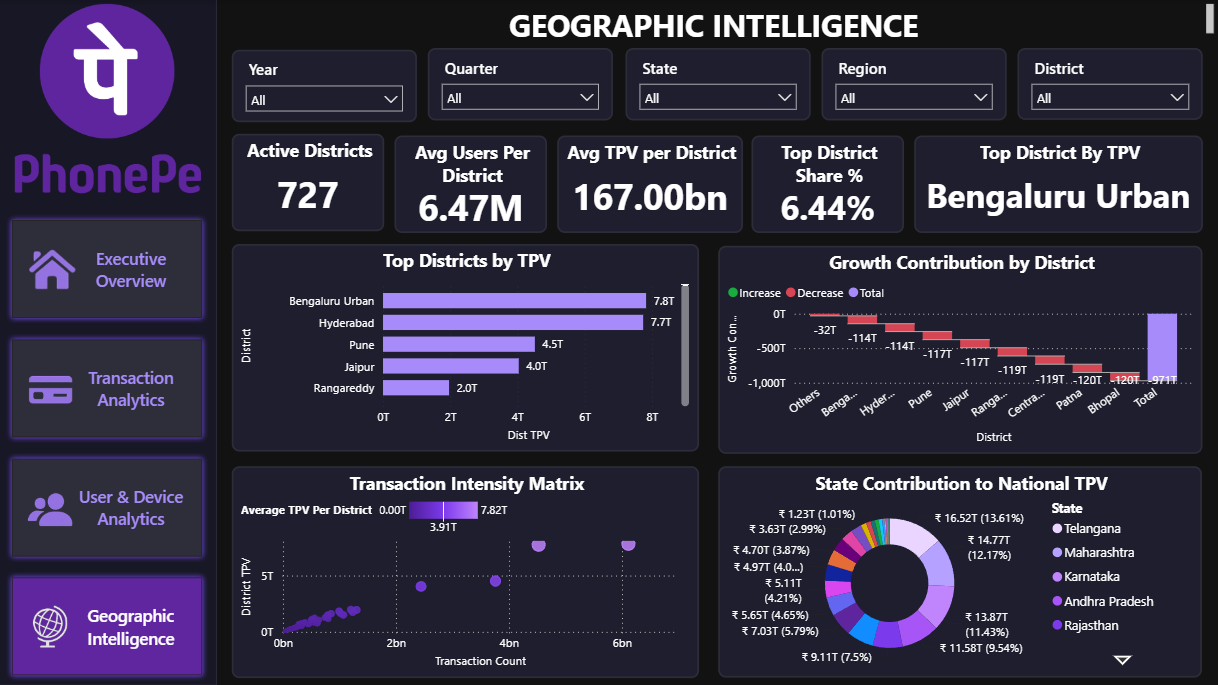

The page's visual inventory and layout, read from the dashboard file:
{"tool":"powerbi","page":{"name":"Geographic Intelligence","canvas":[1280,720],"ordinal":3},"visuals":[{"type":"shape","box":[0,0,228.6,720.4],"z":1000},{"type":"pageNavigator","box":[8.2,226.1,212.2,493.9],"z":1500},{"type":"image","box":[21.9,627.5,63.1,61.9],"z":1750},{"type":"image","box":[34.7,0,157.1,151],"z":2000},{"type":"image","box":[0,132.7,228.6,89.8],"z":3000},{"type":"textbox","box":[228,0,1052,46],"z":4000},{"type":"slicer","title":"Year","fields":{"Values":["Dim_Date.Year"]},"box":[244.1,52.6,194,76],"z":6000},{"type":"slicer","title":"Year","fields":{"Values":["Dim_Date.Quarter"]},"box":[450.3,52.2,194,76],"z":7000},{"type":"slicer","title":"Year","fields":{"Values":["Dim_State.State"]},"box":[656.6,52.2,194,76],"z":8000},{"type":"slicer","title":"Year","fields":{"Values":["Dim_State.Region"]},"box":[862.8,52.2,194,76],"z":9000},{"type":"slicer","title":"Year","fields":{"Values":["Dim_District.District"]},"box":[1067.8,52.2,194.4,75.6],"z":10000},{"type":"card","title":"Active Districts","fields":{"Values":["map_trans.Total Districts"]},"box":[244.3,142.1,160,102.1],"z":11000},{"type":"card","title":"Avg Users Per District","fields":{"Values":["map_trans.Average Users Per District"]},"box":[414.5,142.4,160,102.2],"z":12000},{"type":"card","title":"Avg TPV per District","fields":{"Values":["map_trans.Average TPV Per District"]},"box":[584.8,142.7,194.7,102.2],"z":13000},{"type":"card","title":"Top District Share %","fields":{"Values":["map_trans.Top District Share %"]},"box":[789.7,142.7,160,102.2],"z":14000},{"type":"card","title":"Top District By TPV","fields":{"Values":["map_trans.Top District TPV"]},"box":[960,142.7,302.7,102.2],"z":15000},{"type":"image","box":[22.3,377.7,63.1,63.1],"z":16000},{"type":"image","box":[22.3,503.1,63.1,63.8],"z":17000},{"type":"image","box":[23.1,251.5,63.8,63.8],"z":19000},{"type":"barChart","title":"Top Districts by TPV","fields":{"Category":["map_trans.District"],"Y":["map_trans.Dist TPV"]},"box":[245,257.5,490,217.5],"z":20000},{"type":"waterfallChart","fields":{"Category":["Waterfall District.District Display"],"Y":["Waterfall District.Waterfall Growth Dist Contribution"]},"box":[755,258,508,218],"z":21000},{"type":"scatterChart","title":"Transaction Intensity Matrix","fields":{"X":["map_trans.Dist Transaction"],"Y":["map_trans.Dist TPV"],"Category":["map_trans.District"],"Size":["map_trans.Average TPV Per District"]},"box":[245,490,490,222],"z":22000},{"type":"donutChart","title":"State Contribution to National TPV","fields":{"Category":["Dim_State.State"],"Y":["agg_trans.Total TPV"]},"box":[754.3,490,507.1,221.4],"z":23000}]}

Visuals, with their boxes in screenshot pixels (x1, y1, x2, y2), scaled from the page's 1280x720 canvas onto the 1218x685 screenshot:
shape: (left=0, top=0, right=218, bottom=684)
pageNavigator: (left=8, top=215, right=210, bottom=684)
image: (left=21, top=597, right=81, bottom=656)
image: (left=33, top=0, right=183, bottom=144)
image: (left=0, top=126, right=218, bottom=212)
textbox: (left=217, top=0, right=1217, bottom=44)
"Year" slicer: (left=232, top=50, right=417, bottom=122)
"Year" slicer: (left=428, top=50, right=613, bottom=122)
"Year" slicer: (left=625, top=50, right=809, bottom=122)
"Year" slicer: (left=821, top=50, right=1006, bottom=122)
"Year" slicer: (left=1016, top=50, right=1201, bottom=122)
"Active Districts" card: (left=232, top=135, right=385, bottom=232)
"Avg Users Per District" card: (left=394, top=135, right=547, bottom=233)
"Avg TPV per District" card: (left=556, top=136, right=742, bottom=233)
"Top District Share %" card: (left=751, top=136, right=904, bottom=233)
"Top District By TPV" card: (left=914, top=136, right=1202, bottom=233)
image: (left=21, top=359, right=81, bottom=419)
image: (left=21, top=479, right=81, bottom=539)
image: (left=22, top=239, right=83, bottom=300)
"Top Districts by TPV" barChart: (left=233, top=245, right=699, bottom=452)
waterfallChart - Waterfall District.District Display x Waterfall District.Waterfall Growth Dist Contribution: (left=718, top=245, right=1202, bottom=453)
"Transaction Intensity Matrix" scatterChart: (left=233, top=466, right=699, bottom=677)
"State Contribution to National TPV" donutChart: (left=718, top=466, right=1200, bottom=677)
